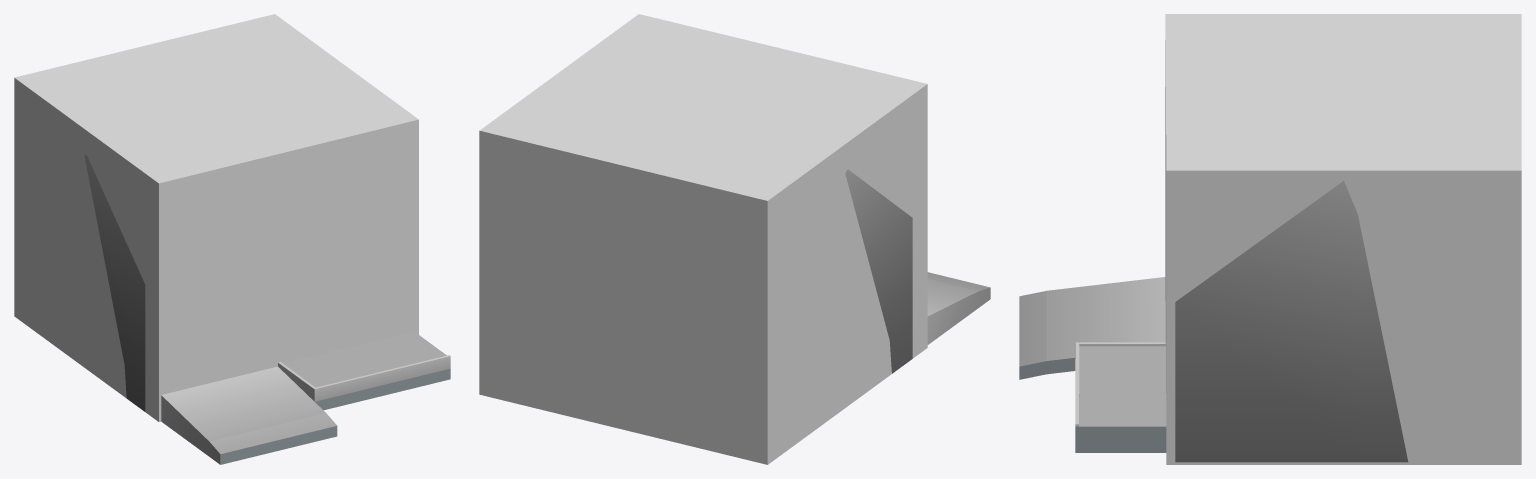
The model's file is NPCRumah 4.fbx.
3 views of the same model, side by side, from view 1: azimuth 30°, elevation 25°; view 2: azimuth 150°, elevation 25°; view 3: azimuth 270°, elevation 25° (orthographic). The views are drawn at different scales.
Visible parts, largest first — view 1: BoxColiderNPC4, RoadNPC4_LOD0; view 2: BoxColiderNPC4, RoadNPC4_LOD0; view 3: BoxColiderNPC4, RoadNPC4_LOD0.
Part boxes in pixels (left/top/right/bottom): BoxColiderNPC4: left=14, top=14, right=418, bottom=421; RoadNPC4_LOD0: left=84, top=154, right=450, bottom=464; BoxColiderNPC4: left=479, top=14, right=927, bottom=464; RoadNPC4_LOD0: left=845, top=169, right=990, bottom=373; BoxColiderNPC4: left=1165, top=14, right=1521, bottom=464; RoadNPC4_LOD0: left=1019, top=181, right=1408, bottom=462.
Size of what is drawn, in the model's own units: 1854 by 1622 by 2511.
